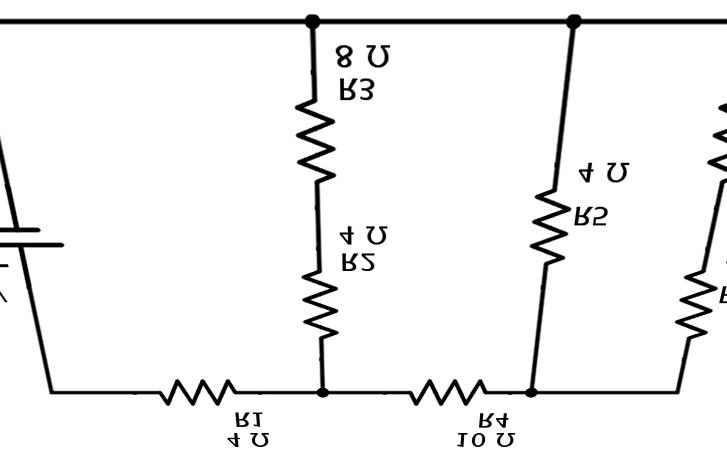resistor: (282, 93, 343, 193), (513, 165, 560, 278), (659, 243, 707, 352), (393, 367, 503, 408), (151, 363, 251, 407), (295, 260, 339, 350)
